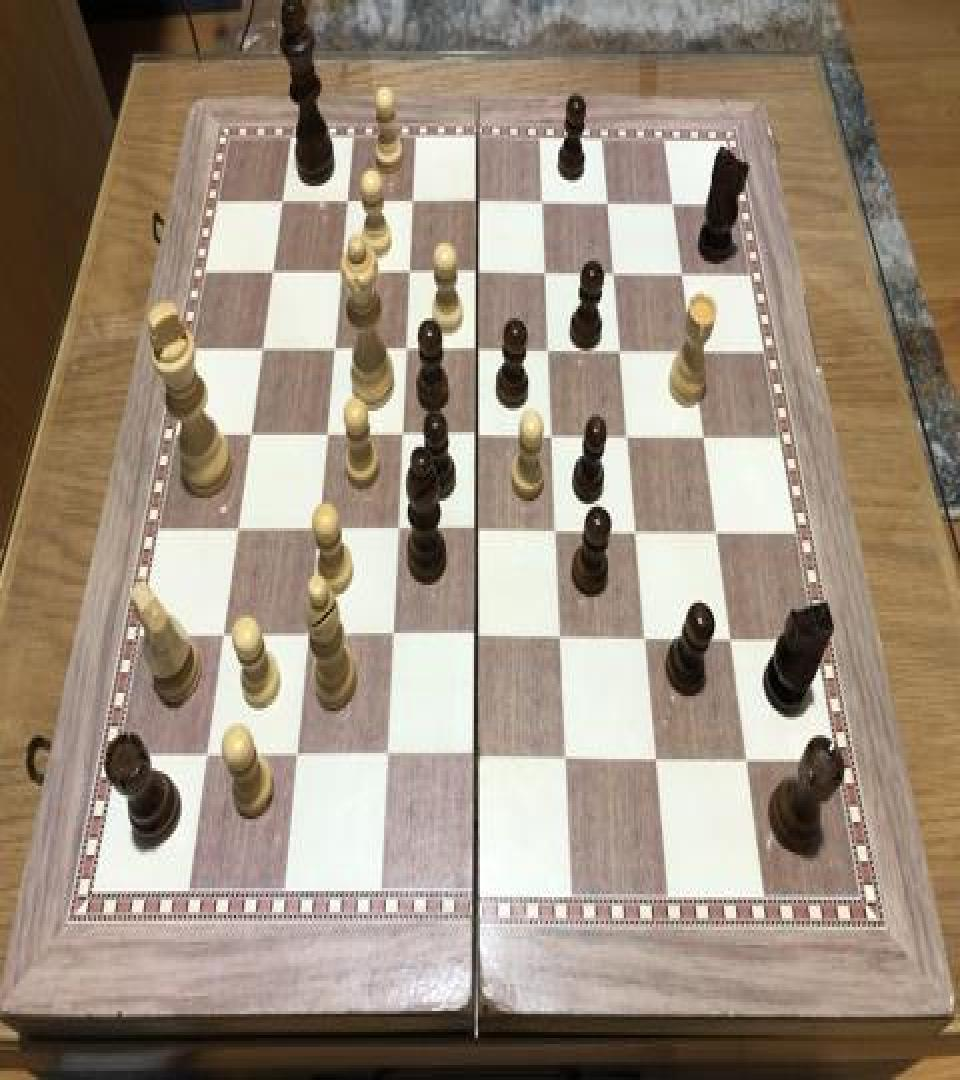xcorner: (703, 514, 727, 551), (622, 514, 646, 551), (717, 622, 741, 659), (631, 622, 655, 659), (551, 742, 575, 779), (460, 742, 484, 779), (281, 739, 305, 776), (192, 739, 216, 776), (660, 182, 684, 218), (595, 182, 619, 218), (529, 182, 553, 218), (464, 182, 488, 218), (399, 182, 423, 218), (334, 182, 358, 218), (269, 182, 293, 218), (669, 252, 693, 288), (601, 252, 625, 288), (532, 252, 556, 288), (463, 252, 487, 288), (395, 252, 419, 288), (327, 252, 351, 288), (259, 252, 283, 288), (679, 330, 703, 366), (607, 330, 631, 366), (535, 330, 559, 366), (463, 330, 487, 366), (391, 330, 415, 366), (320, 330, 344, 366), (249, 330, 273, 366), (691, 417, 715, 453), (614, 417, 638, 453), (538, 417, 562, 453), (462, 417, 486, 453), (387, 417, 411, 453), (312, 417, 336, 453), (237, 417, 261, 453), (542, 513, 566, 549), (462, 513, 486, 549), (382, 513, 406, 549), (303, 513, 327, 549), (224, 512, 248, 548), (546, 621, 570, 657), (461, 621, 485, 657), (377, 620, 401, 656), (293, 620, 317, 656), (209, 620, 233, 656), (732, 746, 756, 782), (641, 744, 665, 780), (370, 741, 394, 777)
